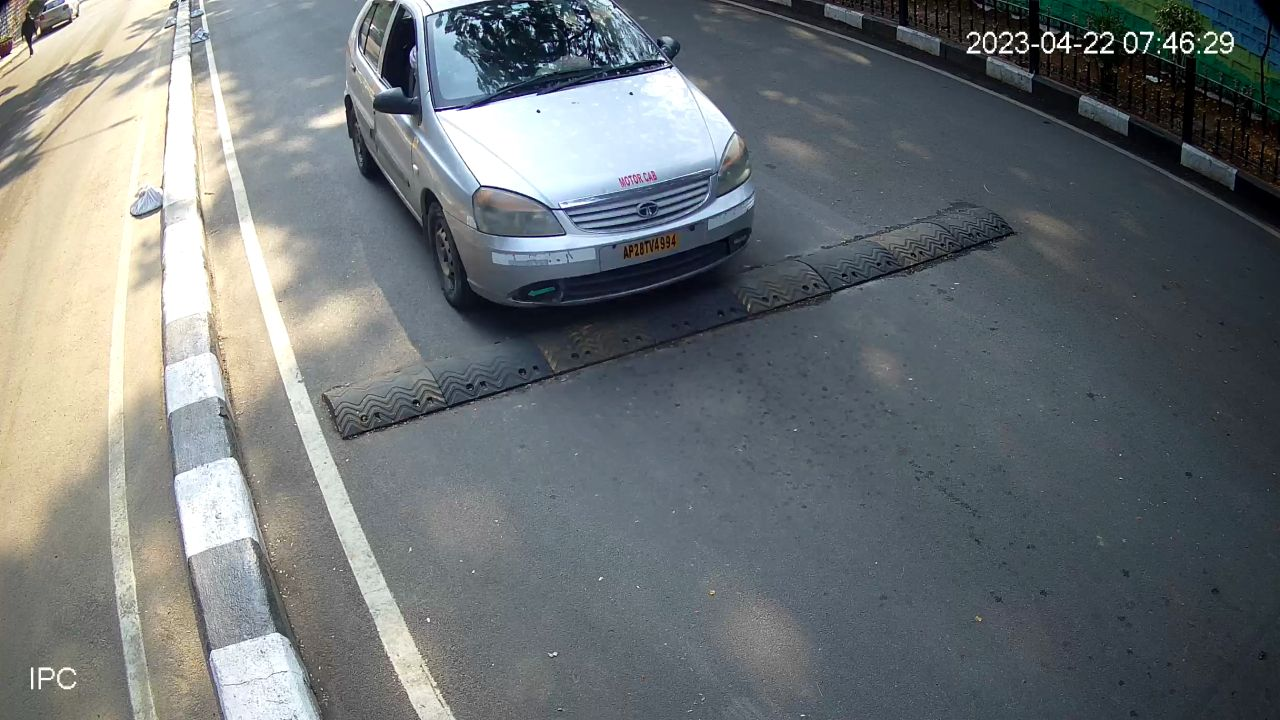license_plate: (617, 226, 684, 270)
